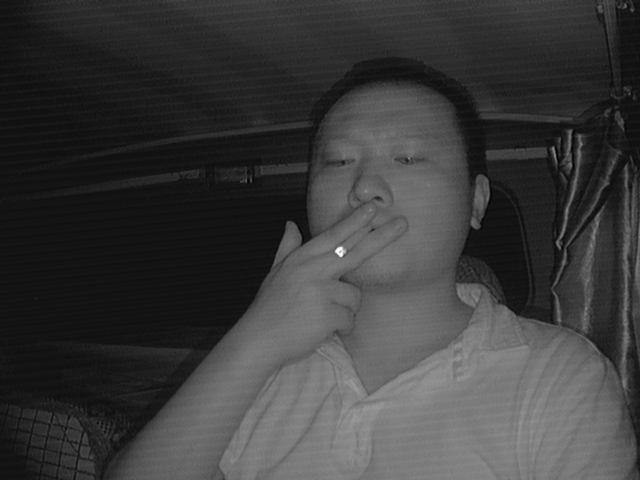hand: (294, 200, 409, 339)
